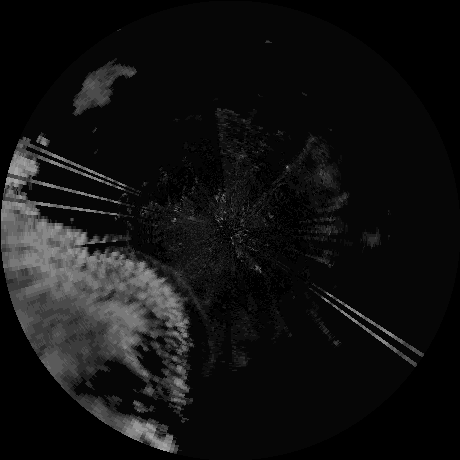frontgust: (142, 252, 207, 324)
